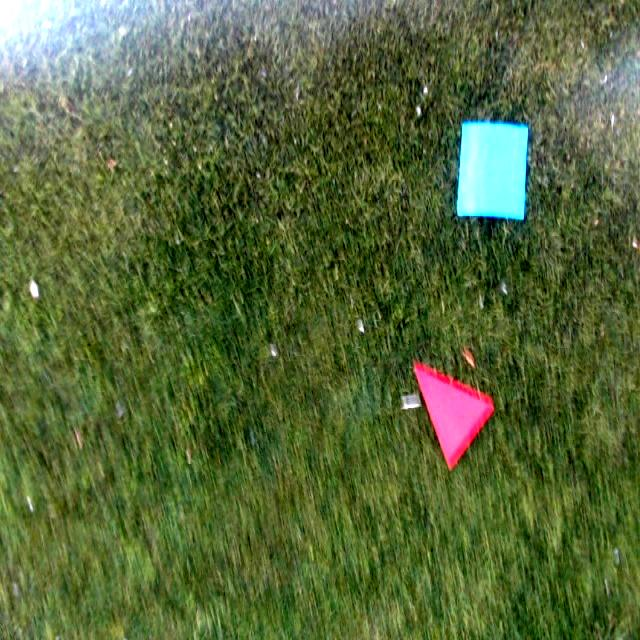blue_square: (457, 122, 528, 220)
red_triangle: (414, 368, 492, 469)
